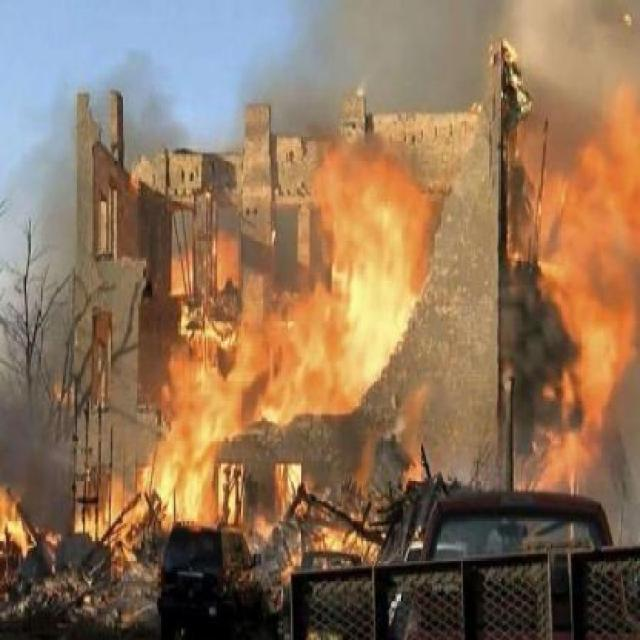Fire: (183, 152, 448, 448), (537, 92, 640, 532), (0, 398, 228, 562), (248, 482, 423, 590)
Smoke: (217, 0, 640, 178), (21, 30, 176, 328), (508, 250, 572, 444)
